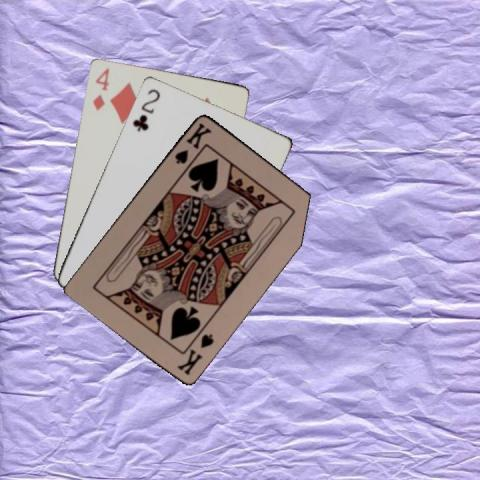2c: (130, 85, 162, 133)
4d: (89, 65, 111, 112)
Ks: (172, 119, 214, 165), (174, 330, 215, 376)
